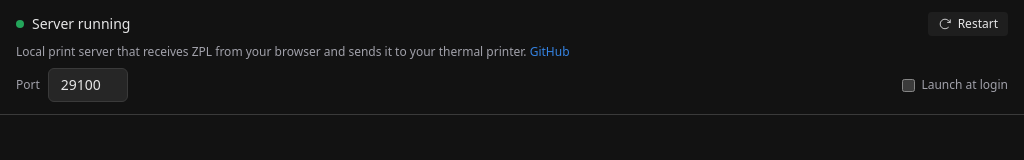
ServerStatus › filters non-numeric characters from port input
This screenshot has width=1024, height=160.
Replace the text in the field showing "29100" with "80abc80" at (88, 85), box left=48, top=68, right=128, bottom=102
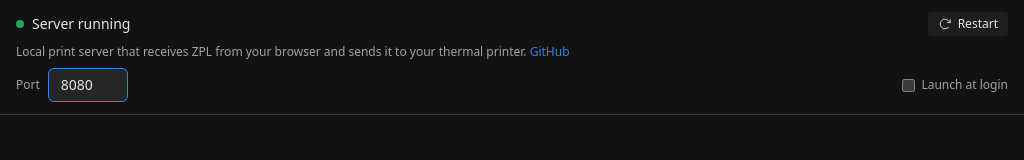
Expected: the field showing "29100" holds "8080", left=48, top=68, right=128, bottom=102
